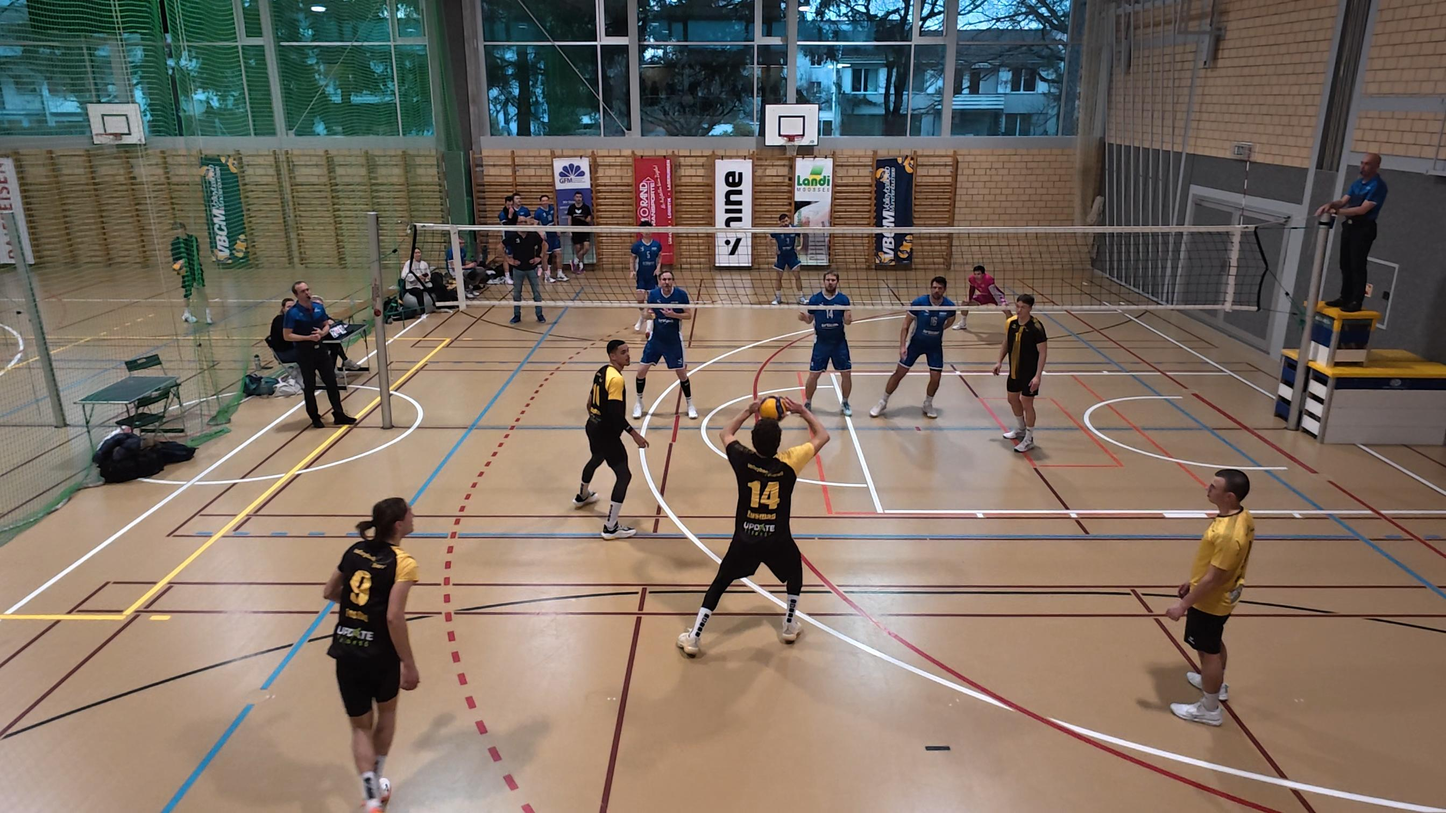ricezione: (670, 403, 832, 658)
